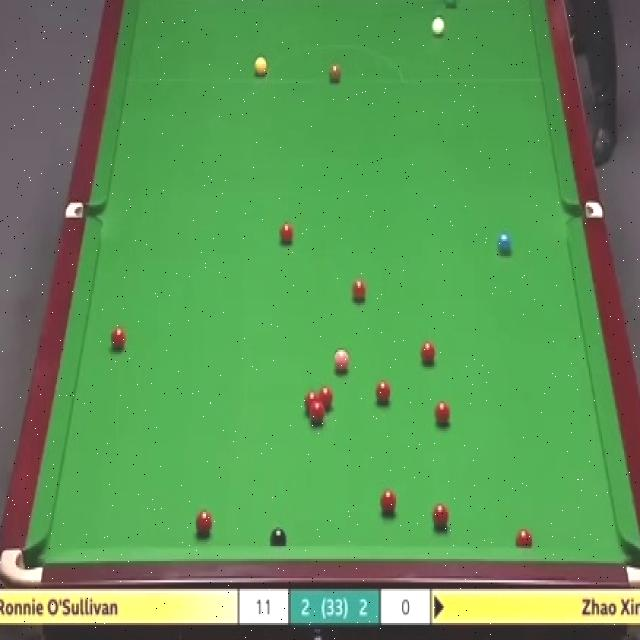black-ball: (269, 526, 289, 548)
blue-ball: (494, 232, 513, 255)
brown-ball: (329, 59, 341, 81)
green-ball: (443, 0, 457, 9)
pink-ball: (333, 349, 351, 375)
red-ball: (372, 376, 391, 404), (432, 503, 450, 532), (379, 489, 397, 516), (420, 338, 437, 366), (195, 508, 212, 536), (350, 276, 367, 303), (434, 399, 451, 424), (304, 390, 319, 417), (110, 324, 126, 349), (280, 219, 293, 248), (319, 385, 333, 411), (310, 404, 326, 425), (515, 527, 533, 545)
white-ball: (432, 16, 445, 39)
yellow-ball: (254, 58, 266, 75)
